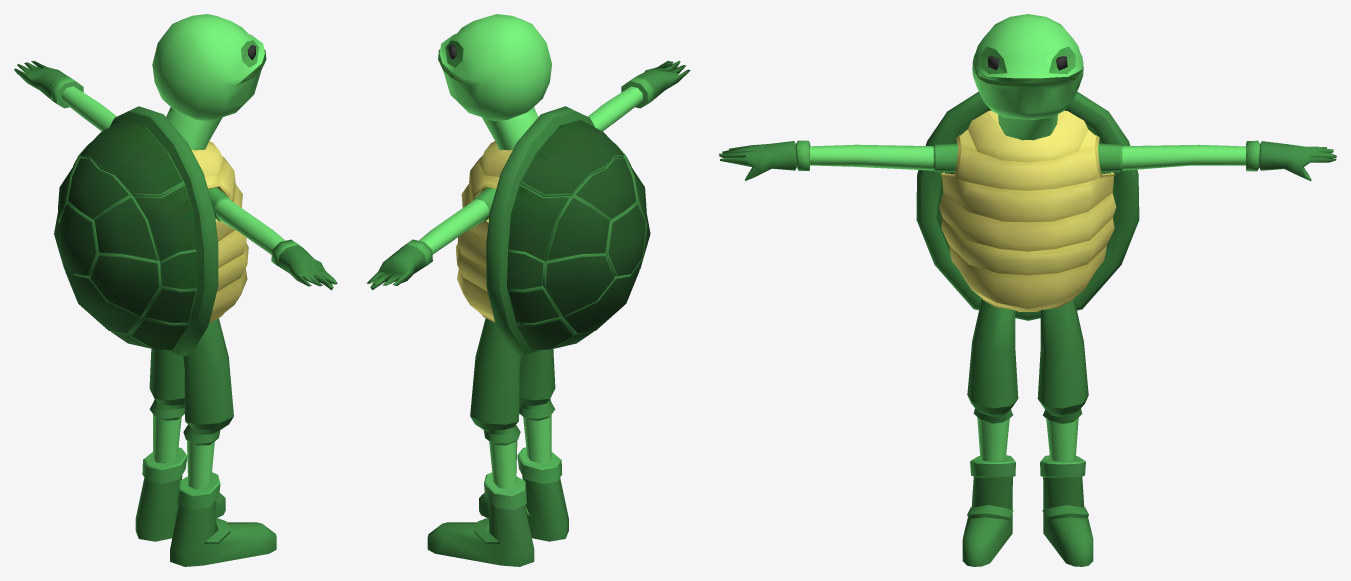
Rendered from animals-turtle-character-203.glb.
3 renders of one model, left to right at view 1: azimuth 30°, elevation 25°; view 2: azimuth 150°, elevation 25°; view 3: azimuth 270°, elevation 25°, orthographic.
Parts seen in each view (by area): view 1: _100Avatars_182_CoolTurtle; view 2: _100Avatars_182_CoolTurtle; view 3: _100Avatars_182_CoolTurtle.
Part boxes in pixels (x1=…): _100Avatars_182_CoolTurtle: x1=14, y1=14, x2=337, y2=566; _100Avatars_182_CoolTurtle: x1=366, y1=14, x2=690, y2=566; _100Avatars_182_CoolTurtle: x1=719, y1=14, x2=1336, y2=566.
Bounding box in the file's own units: 1.69 × 4.33 × 4.61.
Materials: 1 (1 with a texture image).
